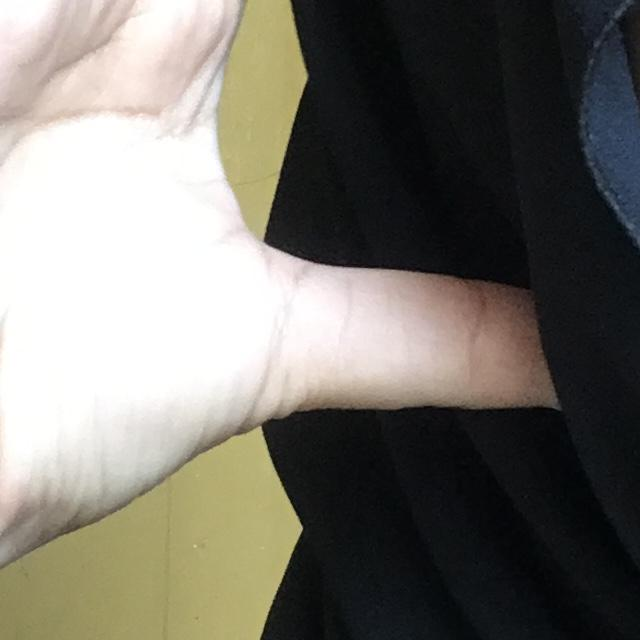mendengar: (0, 0, 590, 626)
